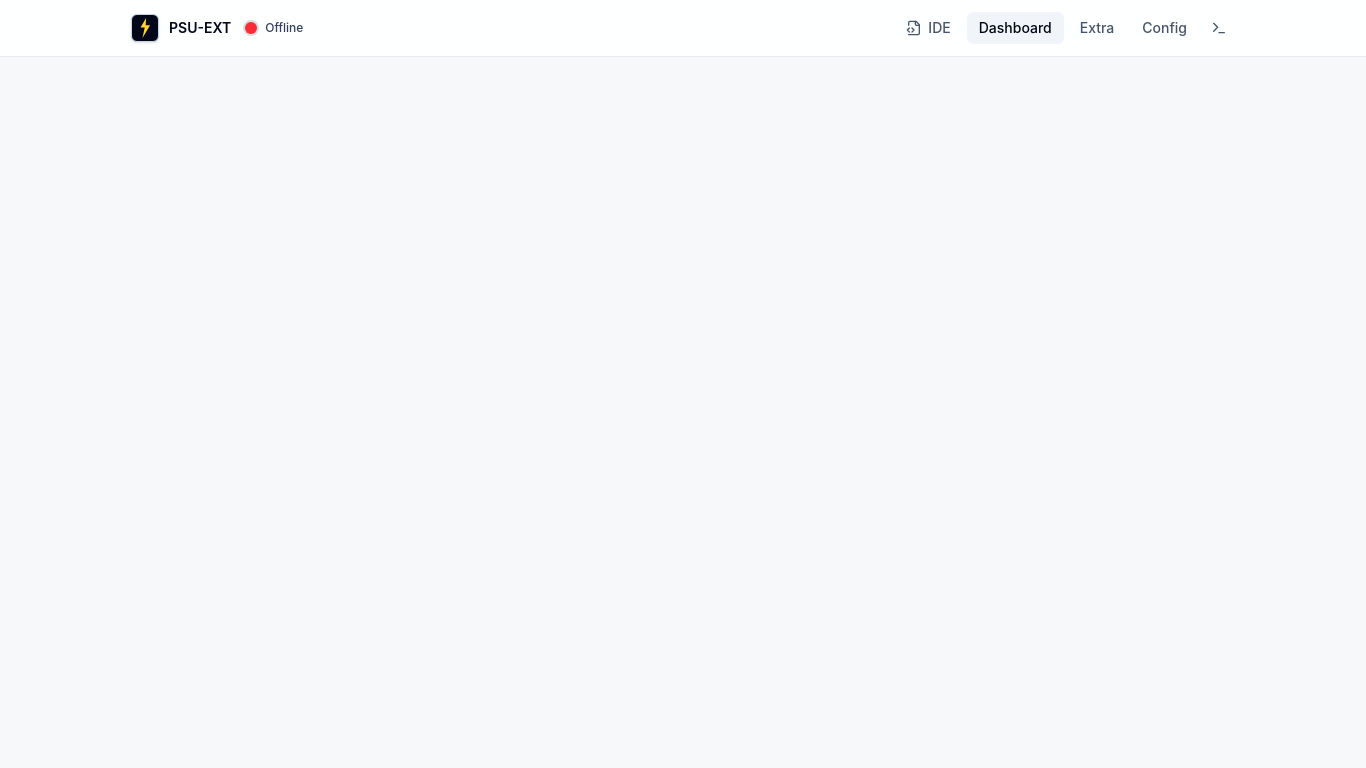
Test: AppHeader › places the terminal action after config and opens the monitor dialog
Click the button named "Open WebSocket monitor" at (1219, 28), box [1203,12,1235,44]
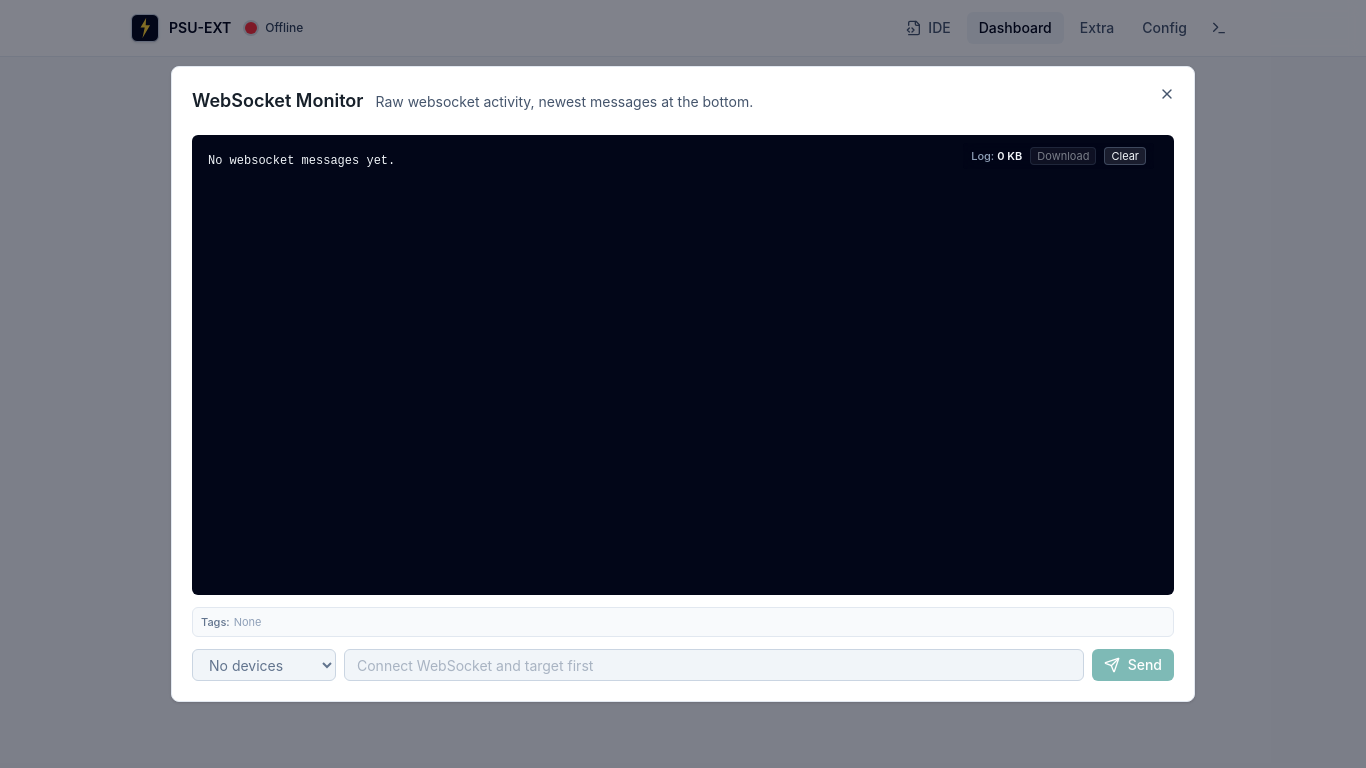
Expected: the dialog "WebSocket Monitor" is shown
